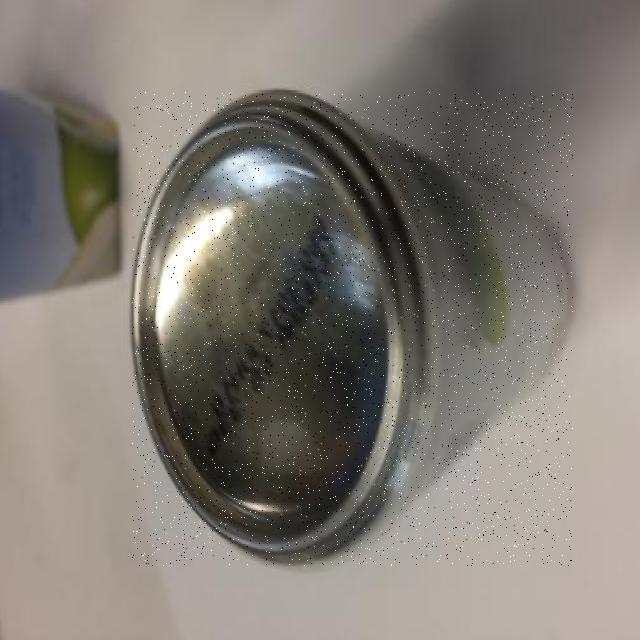metal: (132, 92, 573, 565)
